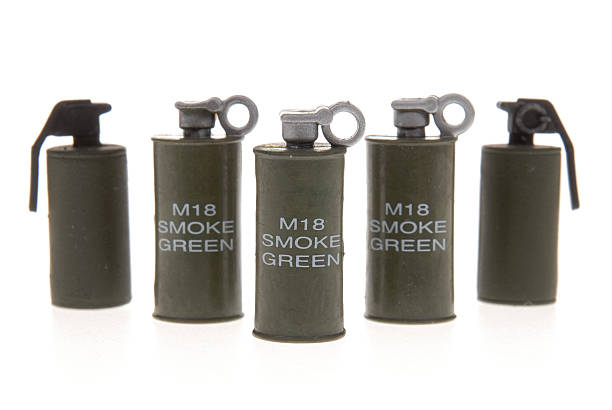e1: (252, 104, 366, 341), (364, 93, 474, 322), (150, 99, 256, 323), (28, 99, 135, 309), (480, 99, 580, 304)
